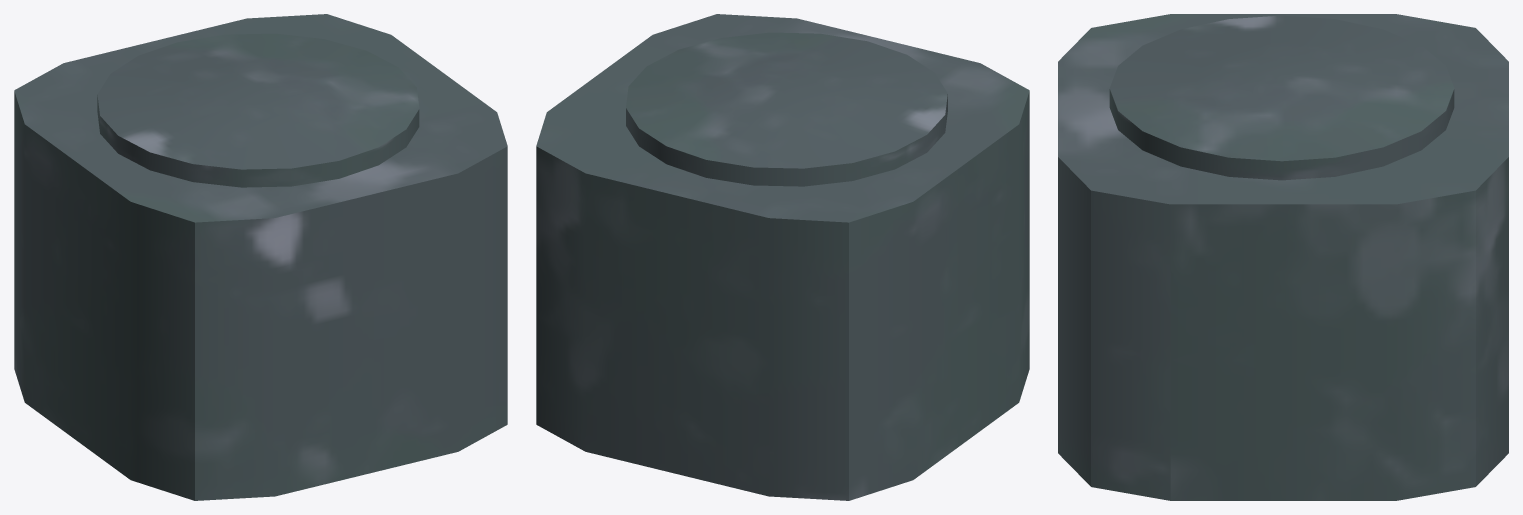
File: Pipe_Connector.fbx
3 renders of one model, left to right at view 1: azimuth 30°, elevation 25°; view 2: azimuth 150°, elevation 25°; view 3: azimuth 270°, elevation 25°, orthographic. The views are drawn at different scales.
Parts seen in each view (by area): view 1: pCylinder8; view 2: pCylinder8; view 3: pCylinder8.
Boxes of the visible parts, x1,y1,x2,y2 form: pCylinder8: (14,14,507,500); pCylinder8: (536,14,1029,500); pCylinder8: (1058,14,1508,500).
Size of the model in its own units: 65.47 by 53.06 by 65.47.
